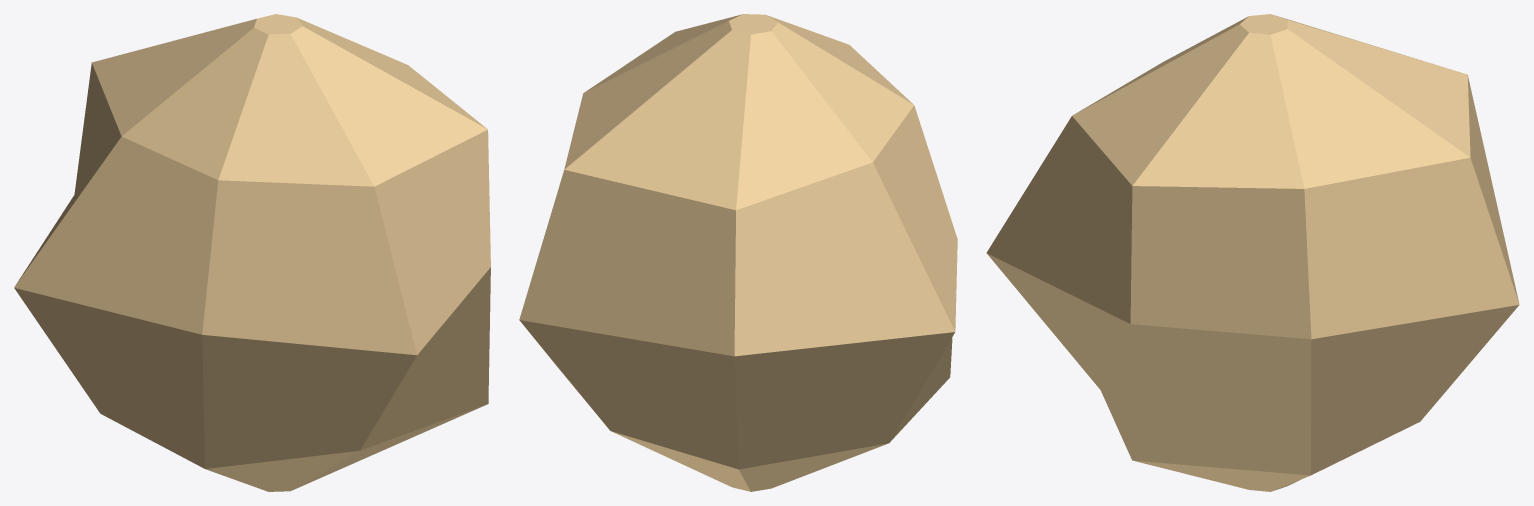
File: SM_Puff_Dust.fbx
3 views of the same model, side by side, from view 1: azimuth 30°, elevation 25°; view 2: azimuth 150°, elevation 25°; view 3: azimuth 270°, elevation 25° (orthographic).
Visible parts, largest first — view 1: Puff_Dust; view 2: Puff_Dust; view 3: Puff_Dust.
Part boxes in pixels (x1,y1,x2,y2): Puff_Dust: (14,14,490,491); Puff_Dust: (519,14,957,491); Puff_Dust: (986,14,1519,491).
Size of the model in its own units: 93.82 by 106 by 100.
